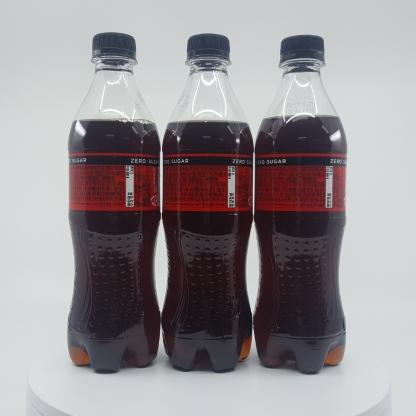------500ML: (67, 31, 161, 373), (160, 33, 254, 373), (253, 34, 347, 373)
